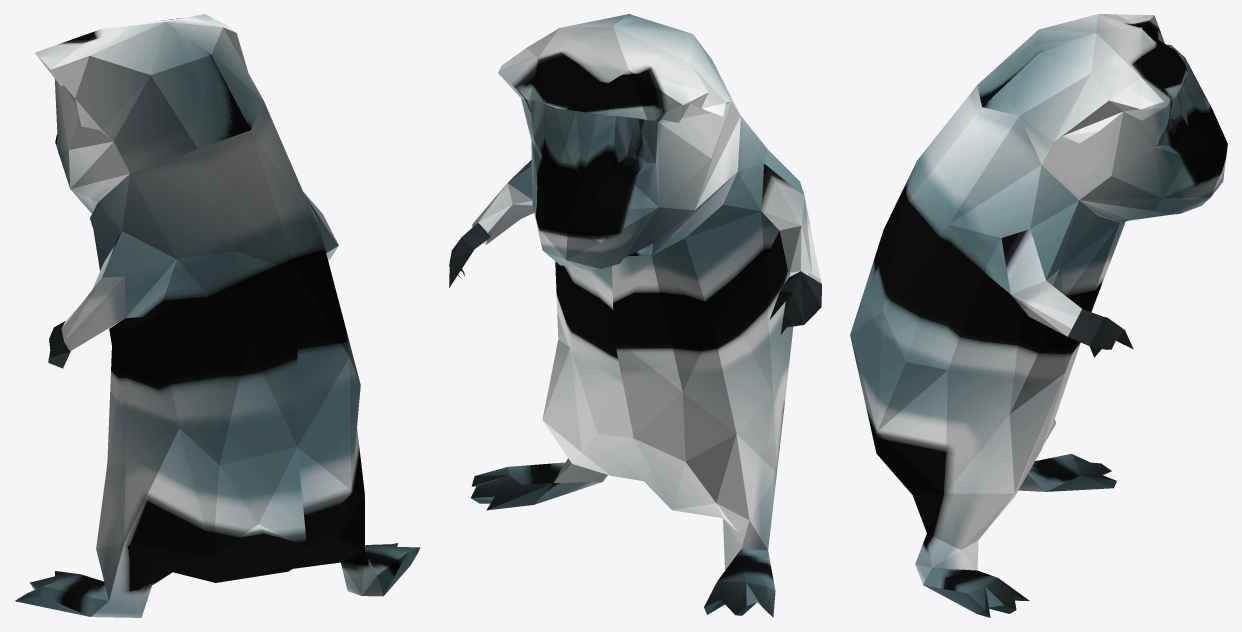
Rendered from icon.ico.obj.
3 views of the same model, side by side, from view 1: azimuth 30°, elevation 25°; view 2: azimuth 150°, elevation 25°; view 3: azimuth 270°, elevation 25° (orthographic). The views are drawn at different scales.
Bounding box in the file's own units: 2.93 × 4.27 × 2.92.
